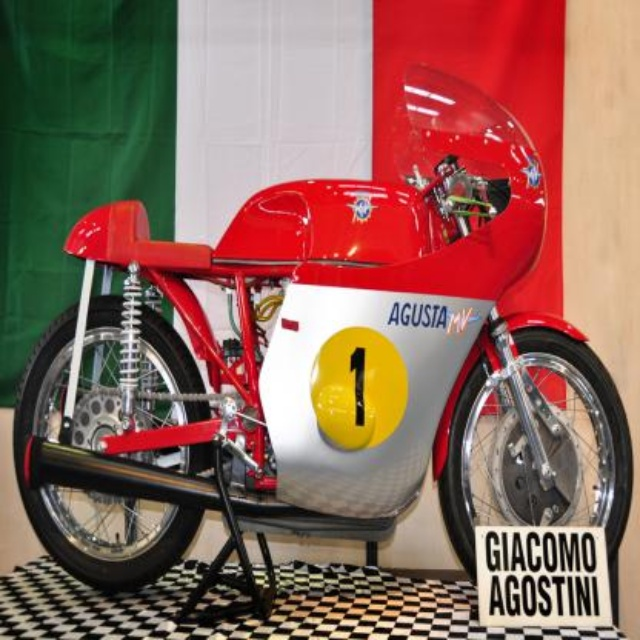Motorcycle: (13, 85, 634, 611)
